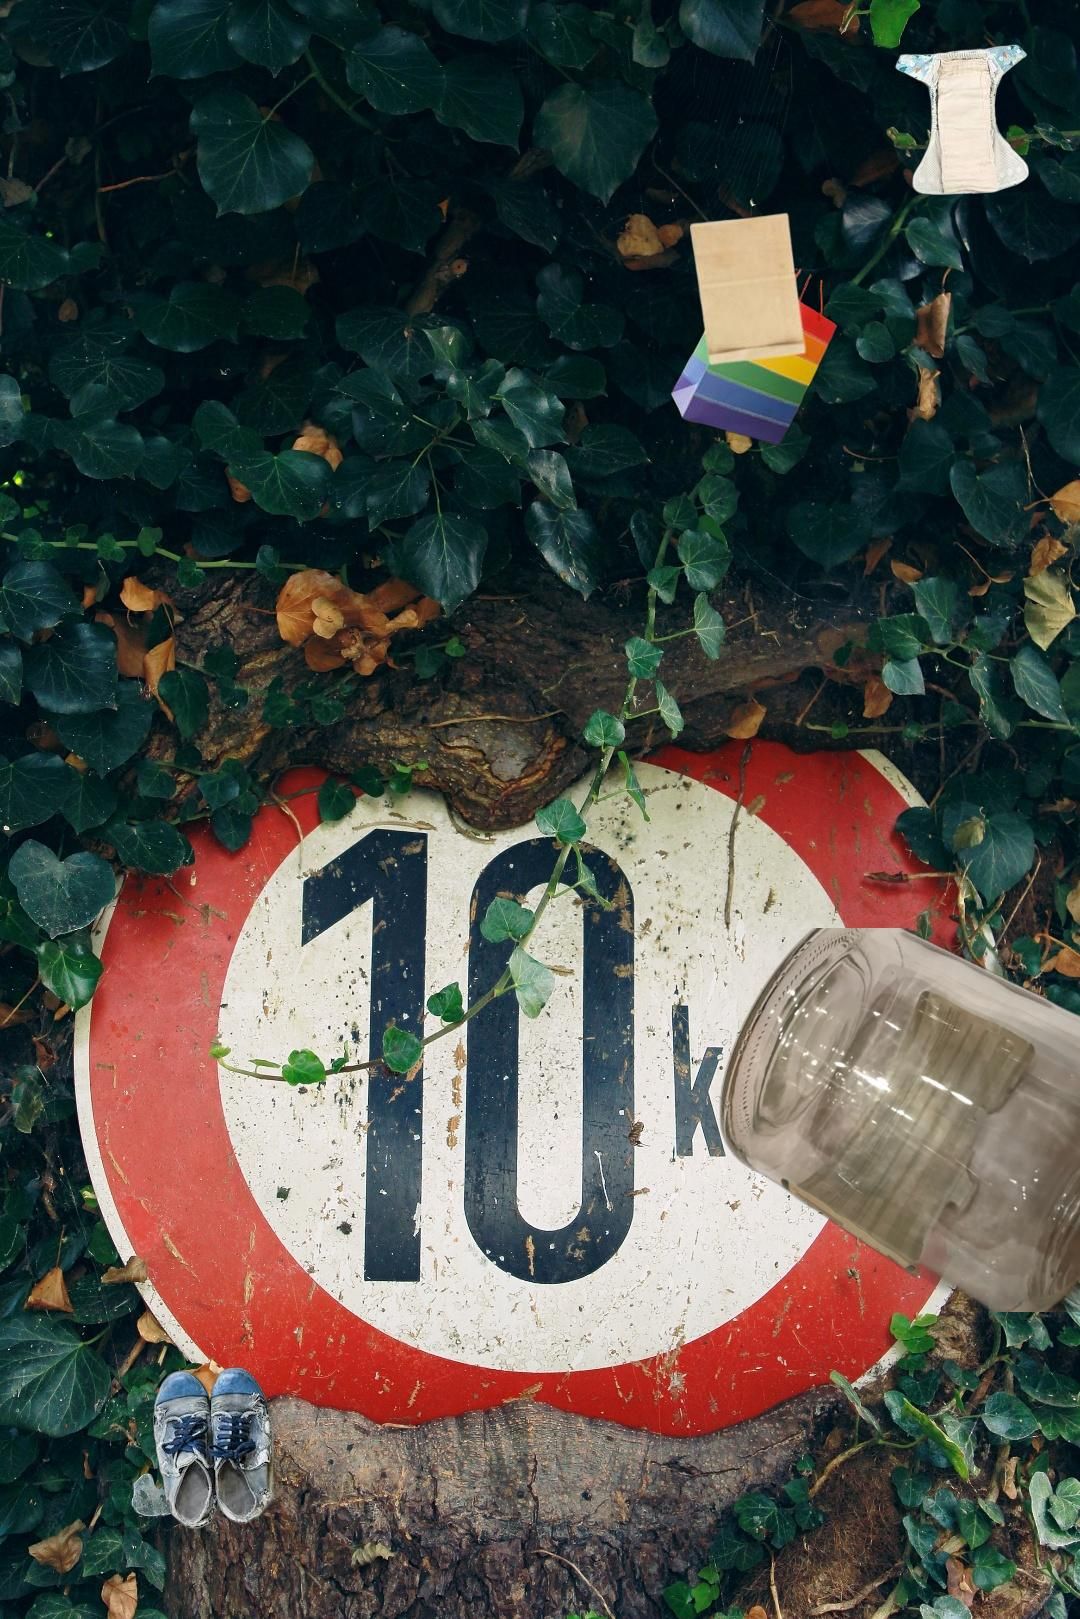glass: (716, 928, 1080, 1312)
paper-bag: (668, 210, 841, 448)
shoes: (149, 1365, 281, 1533)
trash: (892, 42, 1032, 198)
